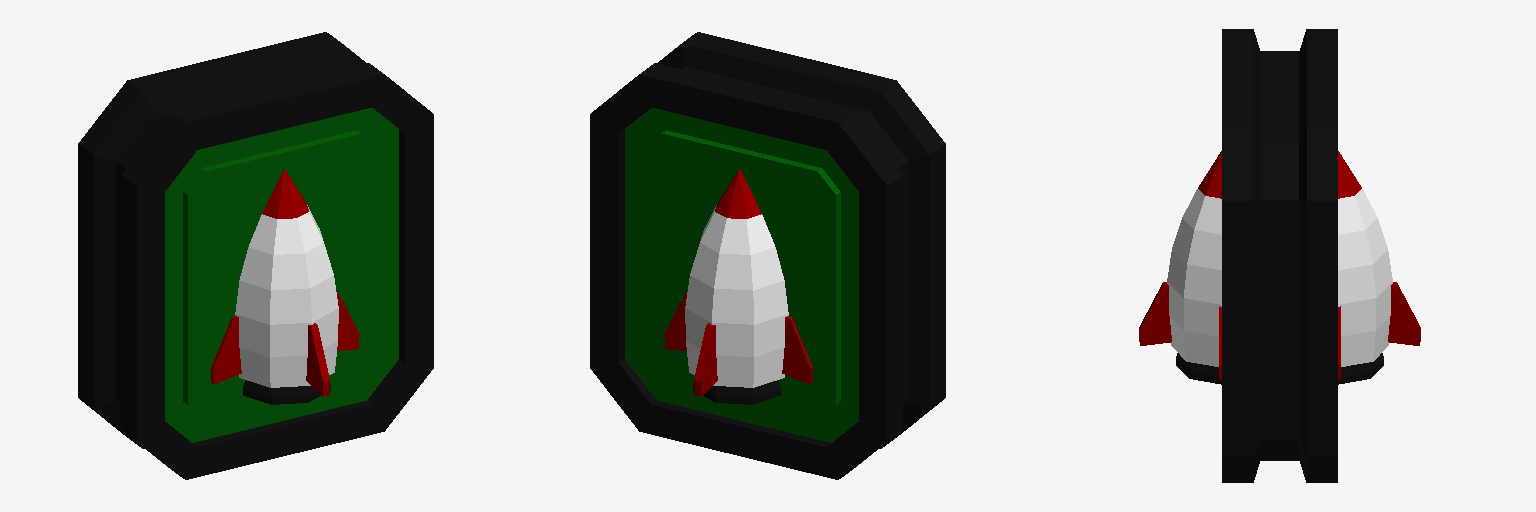
File: PowerUp_Rocket.obj
3 renders of one model, left to right at view 1: azimuth 30°, elevation 25°; view 2: azimuth 150°, elevation 25°; view 3: azimuth 270°, elevation 25°, orthographic.
Visible parts, largest first — view 1: powerUp_Rocket; view 2: powerUp_Rocket; view 3: powerUp_Rocket.
Part boxes in pixels (x1,y1,x2,y2): powerUp_Rocket: (78,32,433,479); powerUp_Rocket: (590,32,945,479); powerUp_Rocket: (1139,29,1420,482).
Size of the model in its own units: 0.364 by 0.4186 by 0.2995.